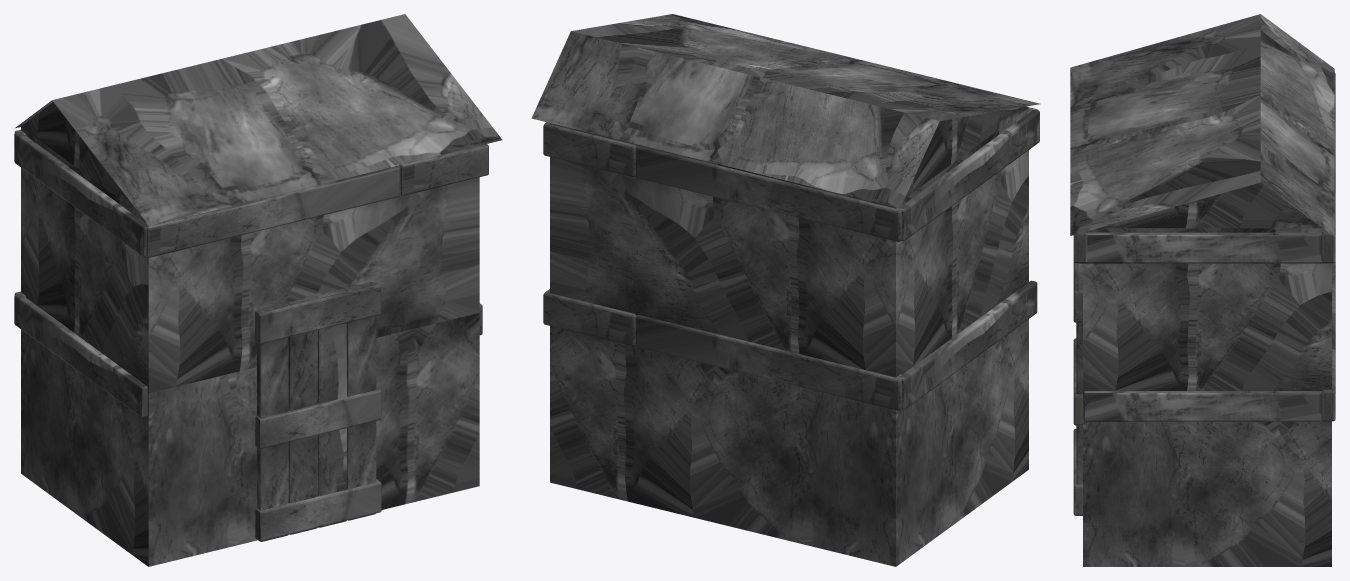
The model's file is house 3.fbx.
3 renders of one model, left to right at view 1: azimuth 30°, elevation 25°; view 2: azimuth 150°, elevation 25°; view 3: azimuth 270°, elevation 25°, orthographic. The views are drawn at different scales.
Parts seen in each view (by area): view 1: stone wall 1.041; view 2: stone wall 1.041; view 3: stone wall 1.041.
Boxes of the visible parts, <box> form: stone wall 1.041: <box>14,14,502,566</box>; stone wall 1.041: <box>531,14,1040,566</box>; stone wall 1.041: <box>1070,14,1335,566</box>.
Bounding box in the file's own units: 322 × 348 × 213.
